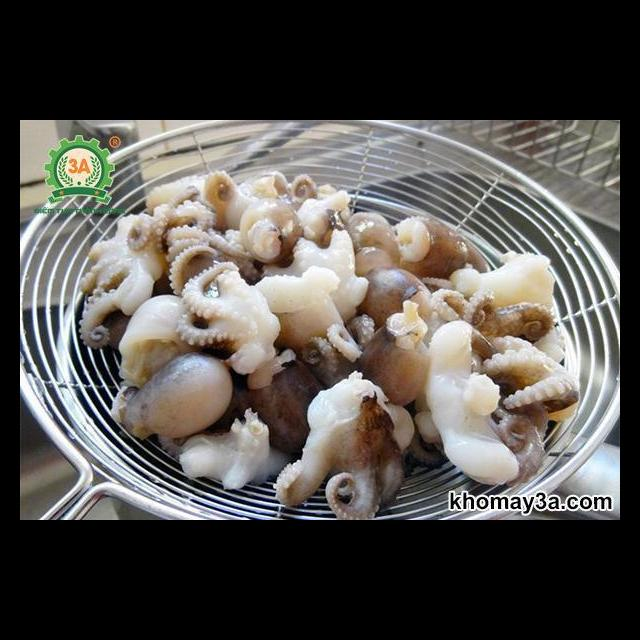muc: (419, 317, 555, 489), (268, 366, 419, 520), (240, 263, 378, 378), (72, 207, 173, 351), (172, 258, 284, 378), (107, 292, 202, 426), (116, 349, 235, 444), (151, 198, 266, 295), (479, 329, 585, 428)
